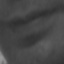MouthFatigue: (1, 8, 64, 42)
